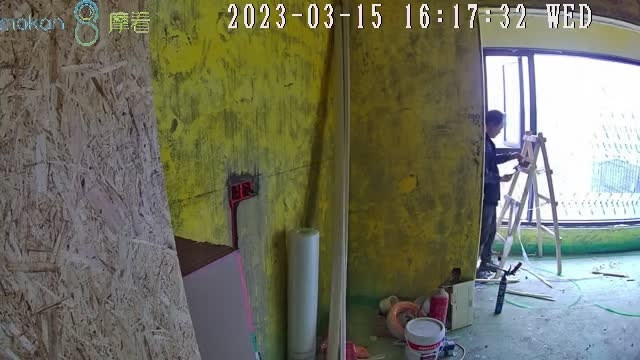people: (480, 109, 515, 283)
window: (484, 53, 640, 222)
